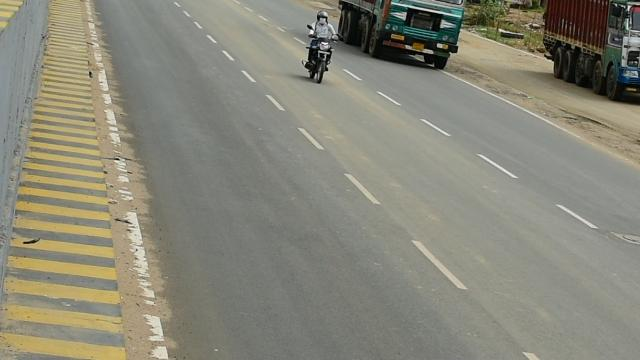With Helmet: (314, 10, 331, 26)
